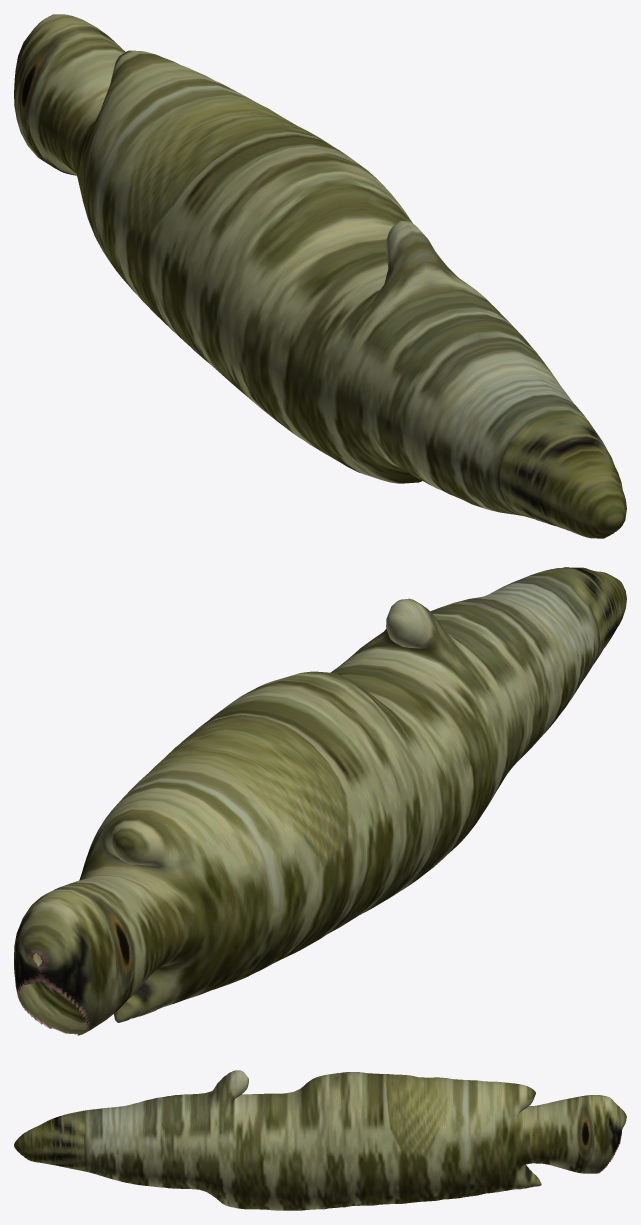
The model's file is Snakehead Fish.fbx.
3 views of the same model, one above another, from view 1: azimuth 30°, elevation 25°; view 2: azimuth 150°, elevation 25°; view 3: azimuth 270°, elevation 25° (orthographic). The views are drawn at different scales.
Visible parts, largest first — view 1: Mesh_0; view 2: Mesh_0; view 3: Mesh_0.
Boxes of the visible parts, bbox=[...] form: Mesh_0: bbox=[14, 14, 626, 538]; Mesh_0: bbox=[14, 567, 626, 1035]; Mesh_0: bbox=[14, 1070, 626, 1210].
Size of the model in its own units: 40.88 by 48.06 by 197.
